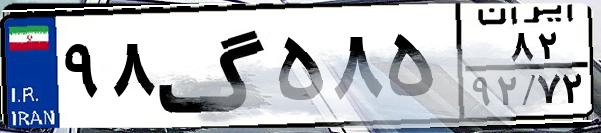2: (560, 70, 590, 125), (537, 27, 568, 80), (495, 70, 520, 125)
5: (270, 28, 330, 110), (385, 28, 445, 110)
7: (535, 70, 560, 125)
8: (330, 28, 385, 110), (110, 28, 156, 98), (508, 27, 537, 80)
9: (57, 26, 110, 100), (470, 70, 495, 125)
گ: (156, 12, 270, 120)
